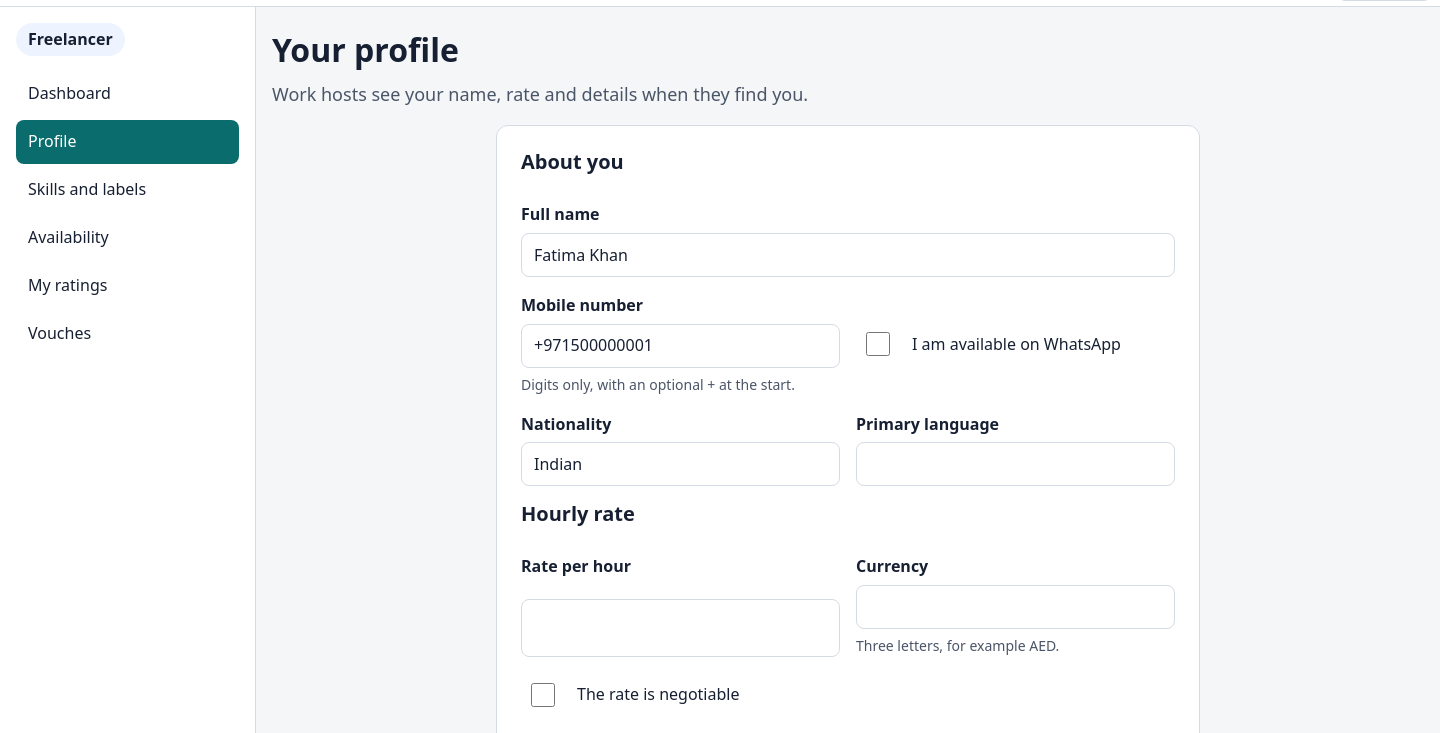
Test: profile page › shows the saved profile and saves changes in the shape the API expects
Expected: the field labelled "Full name" holds "Fatima Khan", [521, 233, 1175, 277]
Expected: the field labelled "Nationality" holds "Indian", [521, 442, 840, 486]
Type "45.5" into the field labelled "Rate per hour".
click(680, 628); type("45.5")  # box [521, 599, 840, 657]
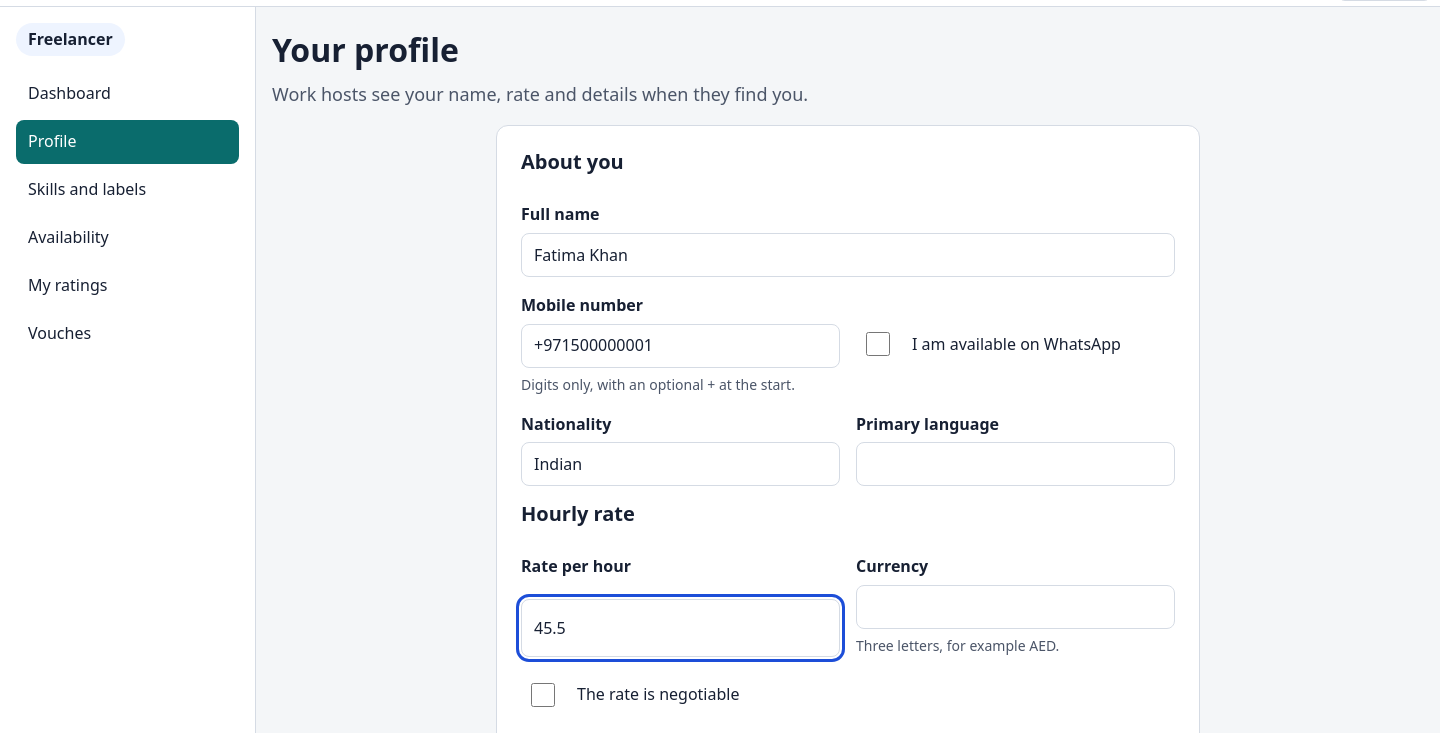
Type "aed" into the field labelled "Currency".
click(1016, 607); type("aed")  # box [856, 585, 1175, 629]
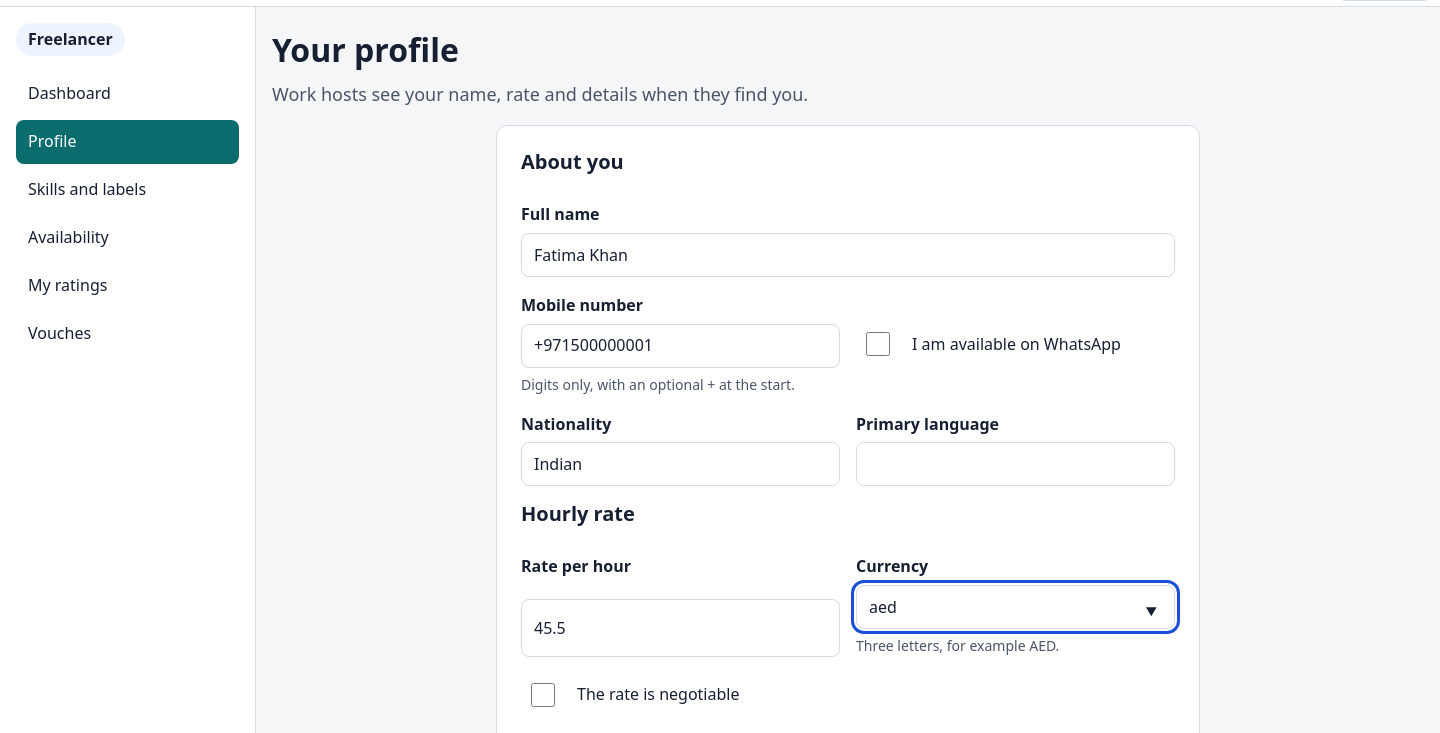
Click the checkbox labelled "The rate is negotiable".
click(543, 695)  # box [531, 683, 555, 707]
(page scrolled)
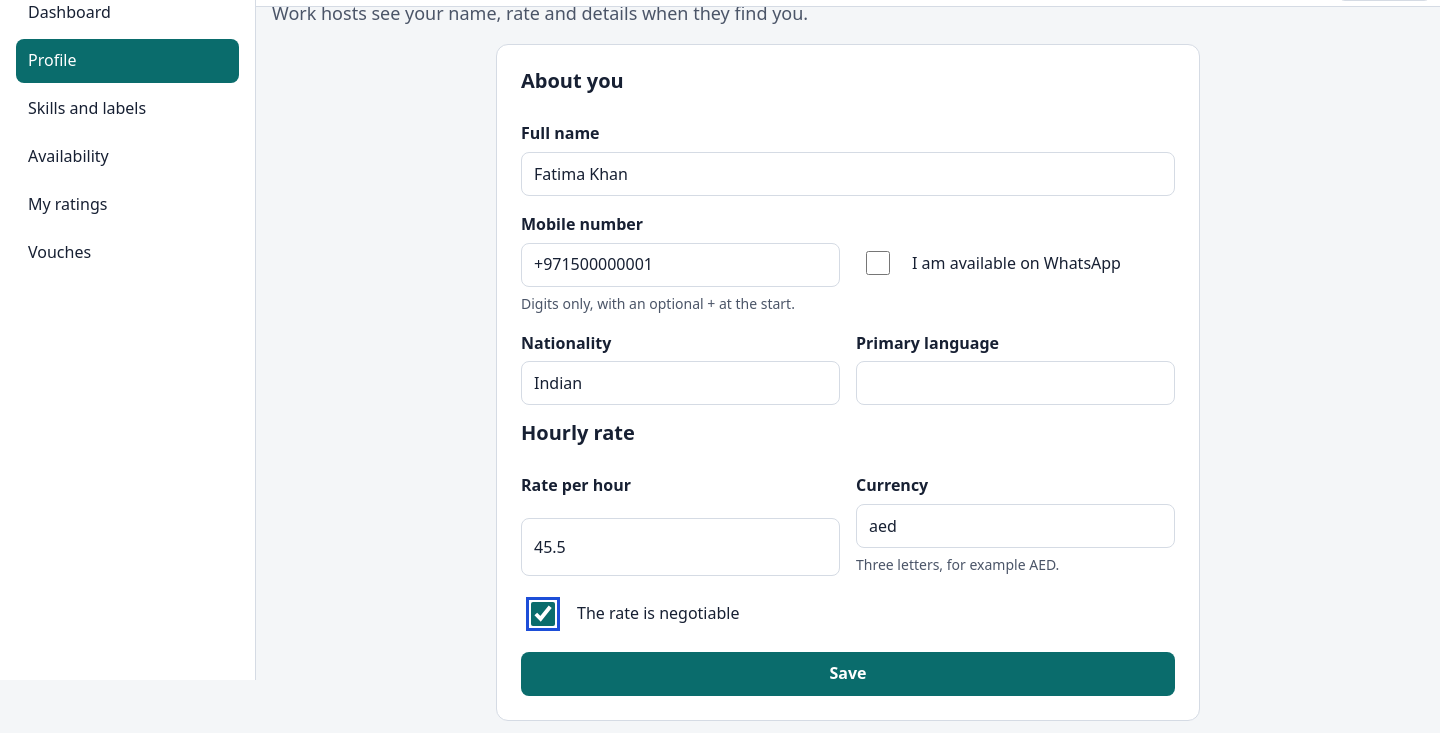
Click the button "Save".
click(848, 674)  # box [521, 652, 1175, 696]
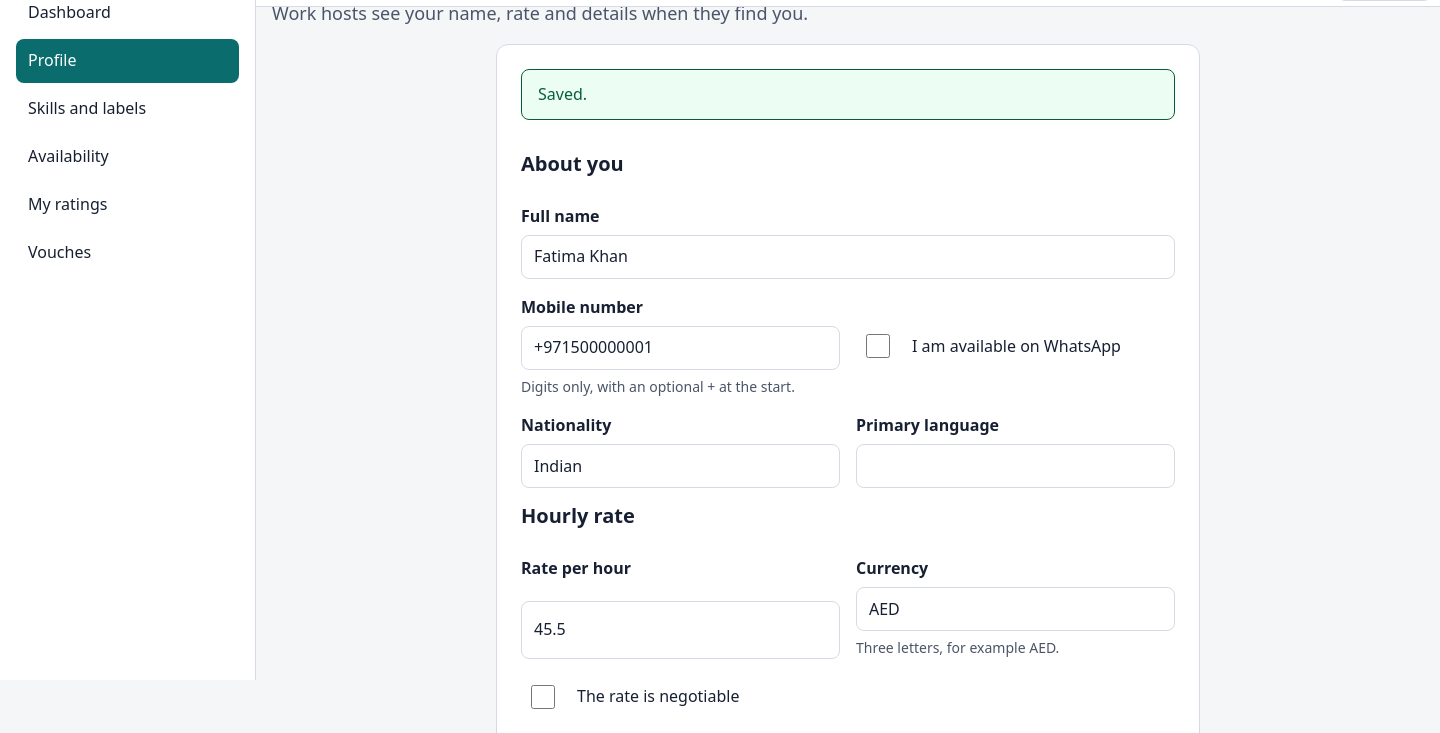
Expected: the message reads "Saved.", [538, 83, 587, 105]
